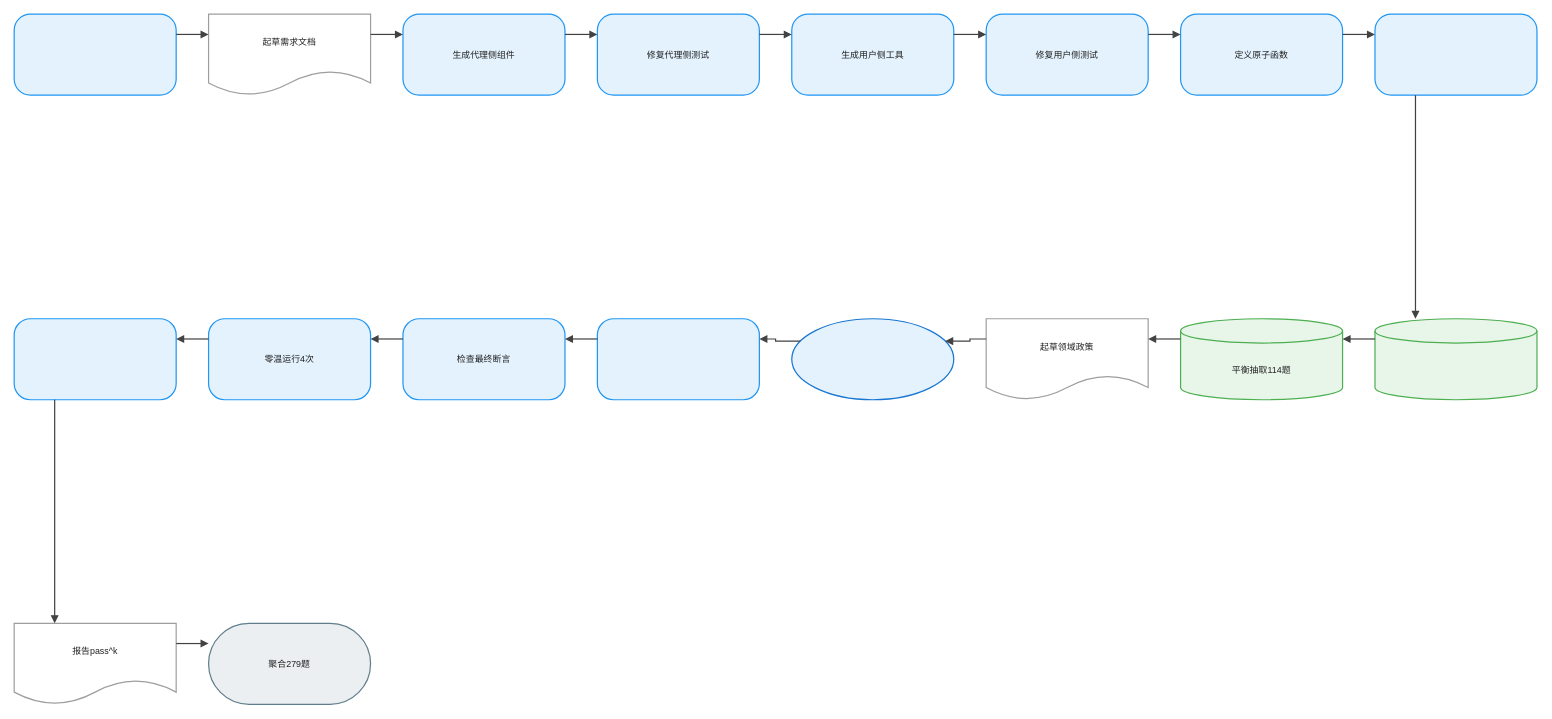
Some shapes in this 1552 by 719 pixel diagram are drawn without their labels. The shapes that lost their labels are listed below. From the top down, each one's box as (x1, y1, x2, y2) in pixels, then its label:
(13, 13, 176, 95): 建模双控环境
(1374, 13, 1537, 95): 组合并验证
(13, 318, 176, 400): 无用户消融
(596, 318, 760, 400): 运行共享状态
(791, 318, 954, 400): 人工联合完善
(1374, 318, 1537, 400): 生成2285题
